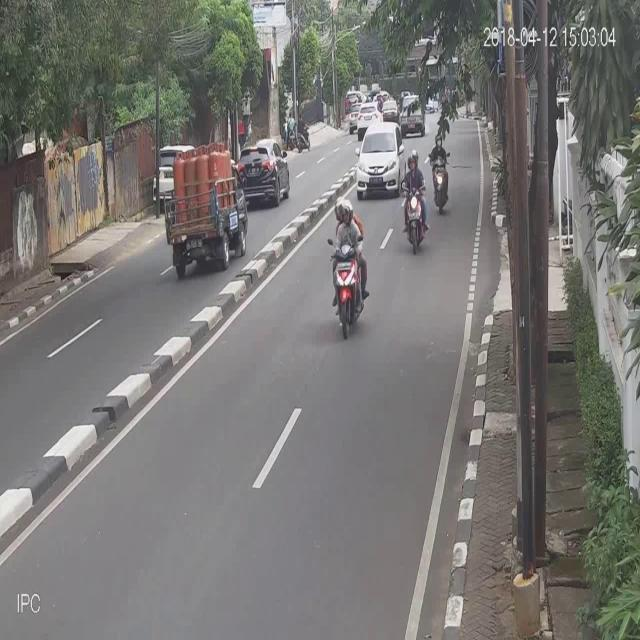bus: (324, 191, 371, 348), (399, 147, 428, 256), (426, 130, 454, 213)
motorcycle: (232, 135, 292, 208), (355, 119, 405, 197)
truck: (161, 142, 249, 273)
